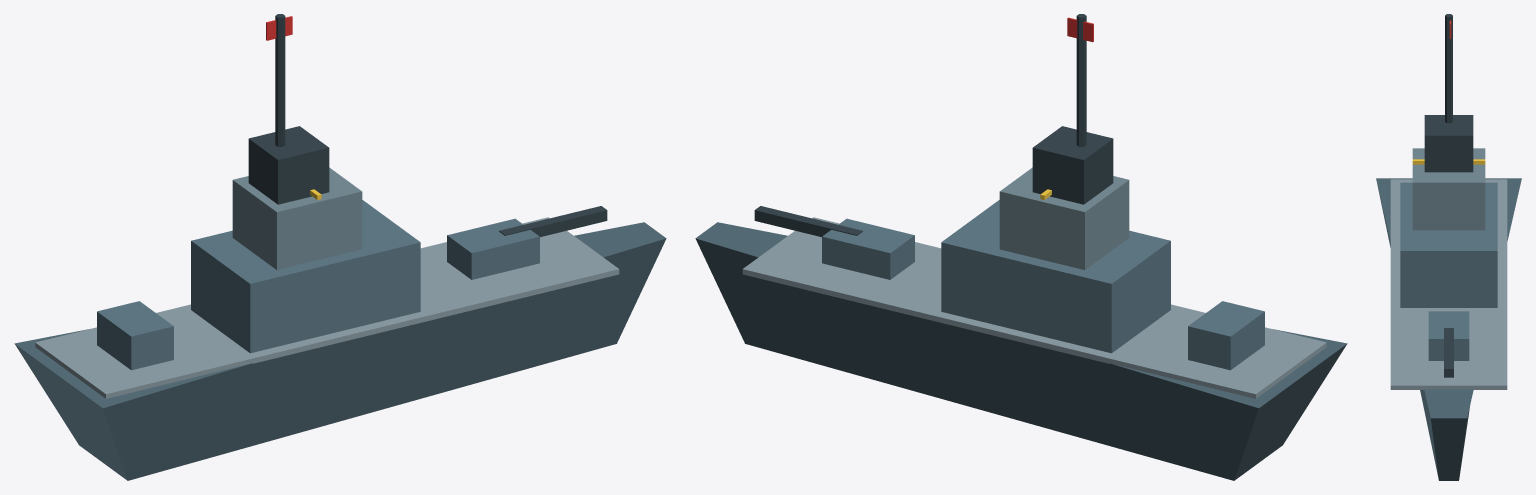
Rendered from warship.glb.
The picture shows the model from 3 angles, left to right: view 1: azimuth 30°, elevation 25°; view 2: azimuth 150°, elevation 25°; view 3: azimuth 270°, elevation 25°; orthographic projection. The views are drawn at different scales.
Parts seen in each view (by area): view 1: warship; view 2: warship; view 3: warship.
Boxes of the visible parts, box(x1,y1,x2,y2) form: warship: box(14, 14, 666, 480); warship: box(695, 14, 1347, 480); warship: box(1376, 14, 1521, 480).
Bounding box in the file's own units: 7 × 4.53 × 1.8.
